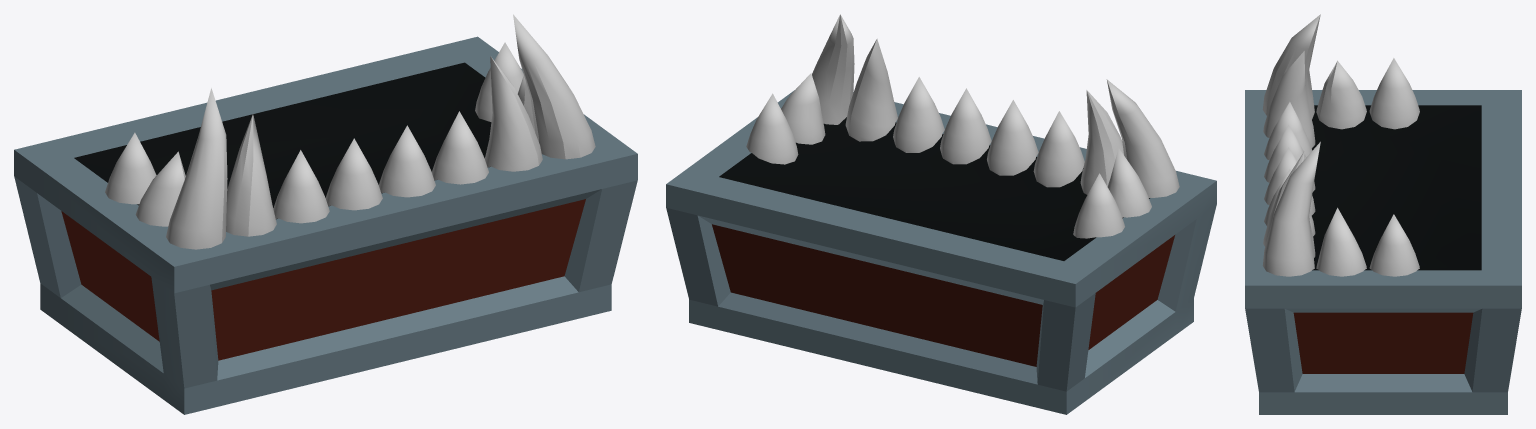
File: chest_uncommon_mimic.obj
3 views of the same model, side by side, from view 1: azimuth 30°, elevation 25°; view 2: azimuth 150°, elevation 25°; view 3: azimuth 270°, elevation 25° (orthographic). The views are drawn at different scales.
Parts seen in each view (by area): view 1: chest_uncommon_mimic_Cube.2498; view 2: chest_uncommon_mimic_Cube.2498; view 3: chest_uncommon_mimic_Cube.2498.
Part boxes in pixels (box(x1,y1,x2,y2)): chest_uncommon_mimic_Cube.2498: box(14, 14, 637, 414); chest_uncommon_mimic_Cube.2498: box(666, 14, 1216, 414); chest_uncommon_mimic_Cube.2498: box(1245, 14, 1521, 414).
Size of the model in its own units: 1.84 by 1.08 by 1.1.
